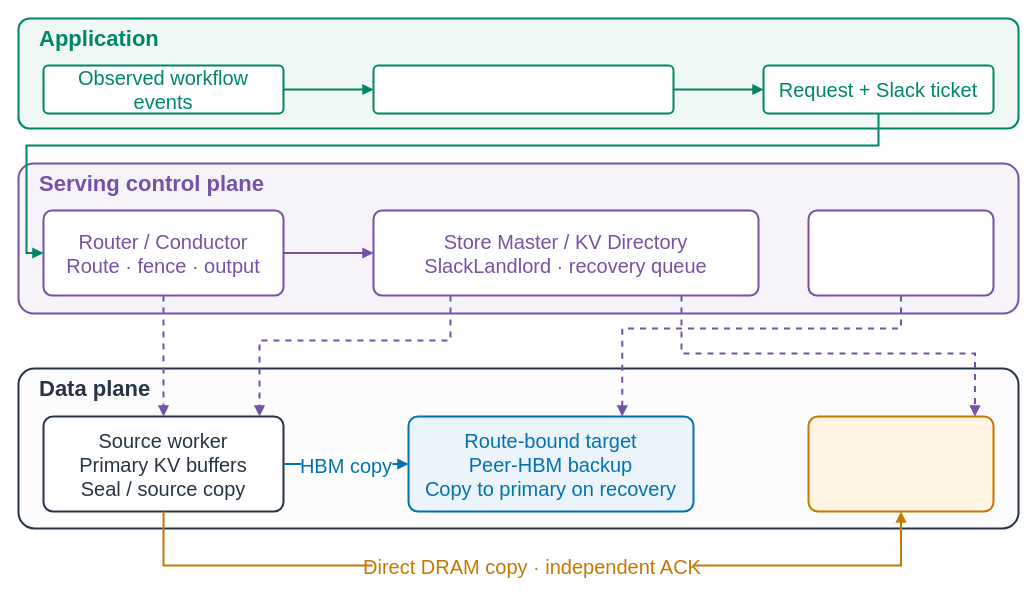
Image size: 1036x596. Some labels were removed from this diagram. The centre of each missing label's shape, as x and y in pixels:
"GBDT + residual-DAG CPM" goes at [523,89].
"HBMQuotaAIMD Publish quota αM" goes at [900,252].
"Mooncake Store DRAM backup D2H / H2D" goes at [900,463].
